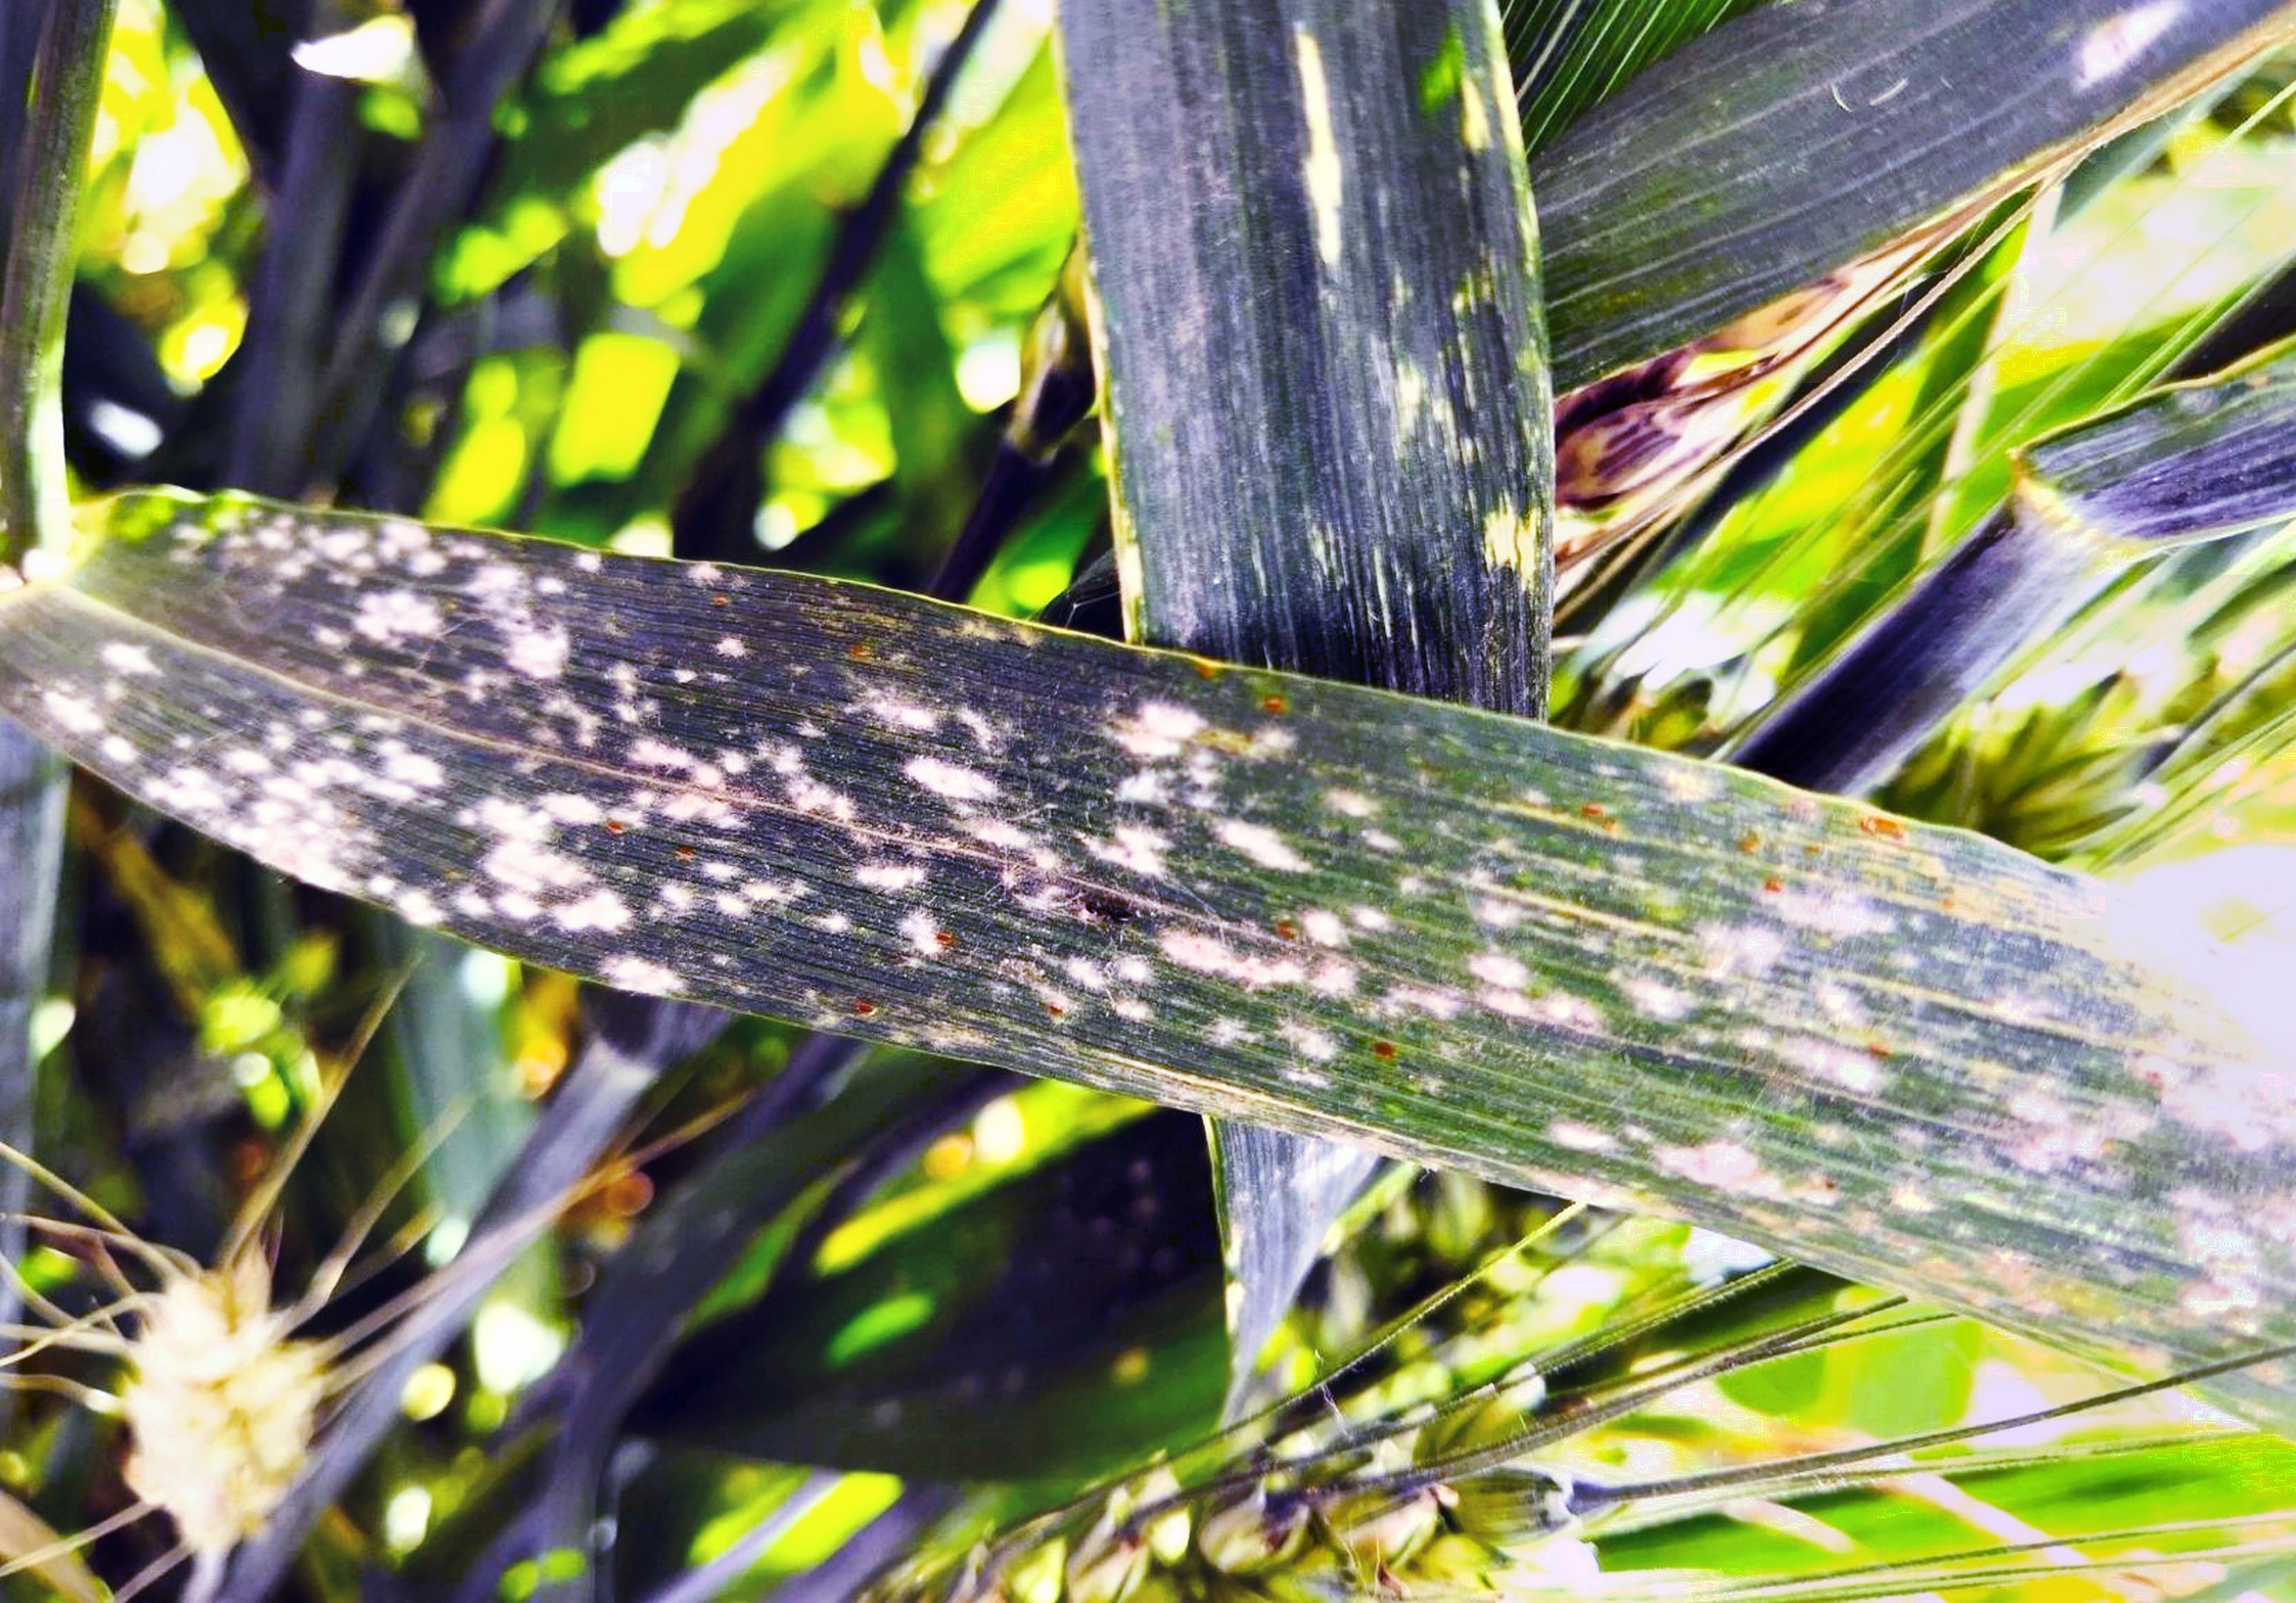Powdery Mildew: (157, 525, 1947, 1224)
